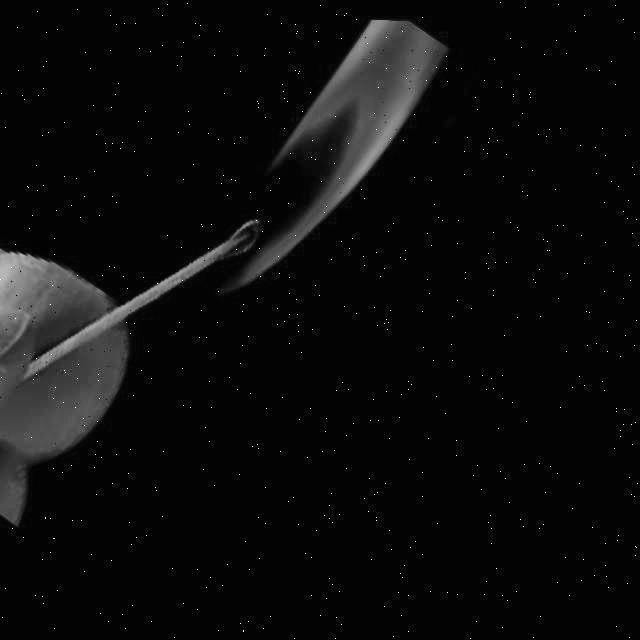Fire: (189, 8, 466, 334)
